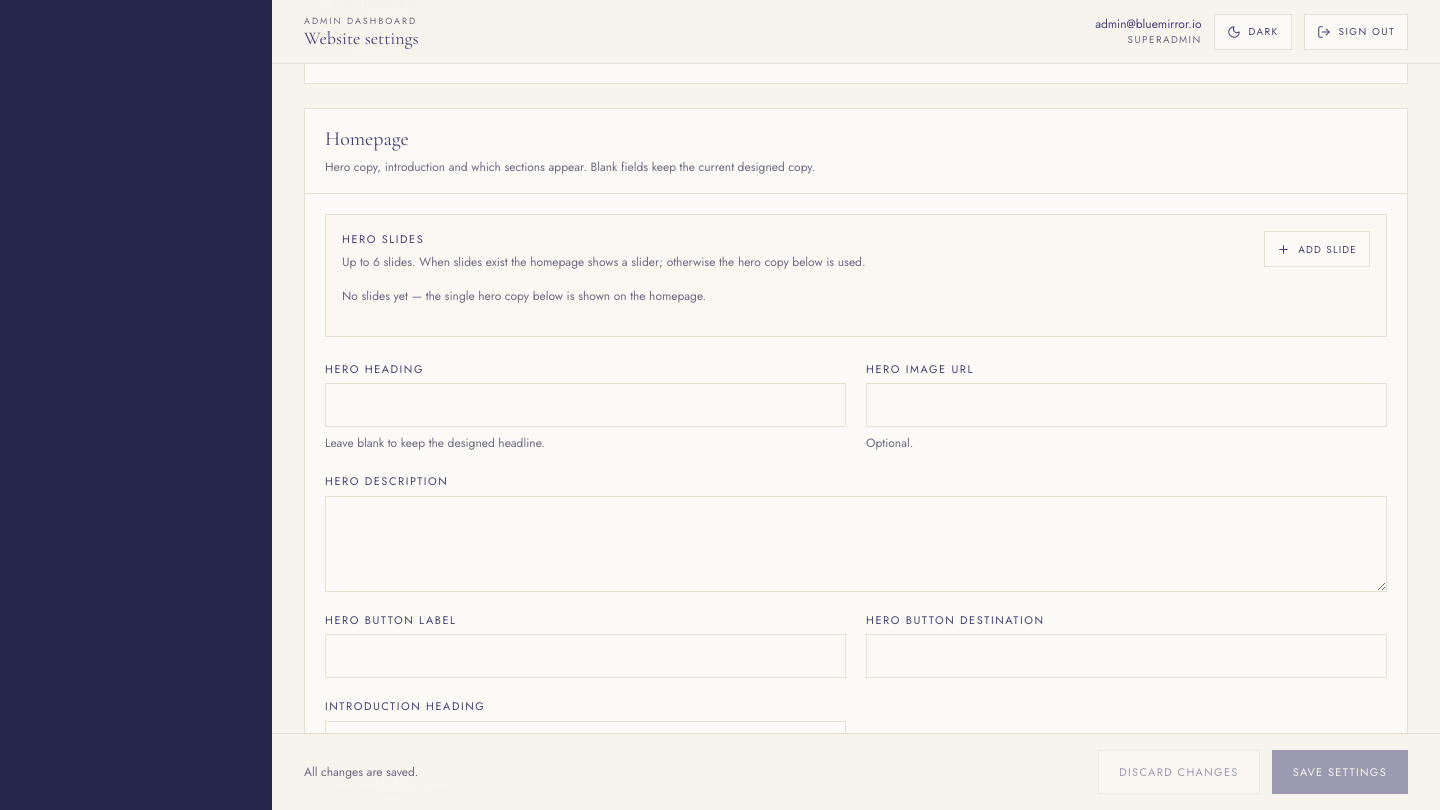
admin website settings › saves homepage copy and section visibility
(page scrolled)
Type "Care that starts with a conversation." into the field labelled "Hero heading" at (586, 405), box 325,383 -> 846,427
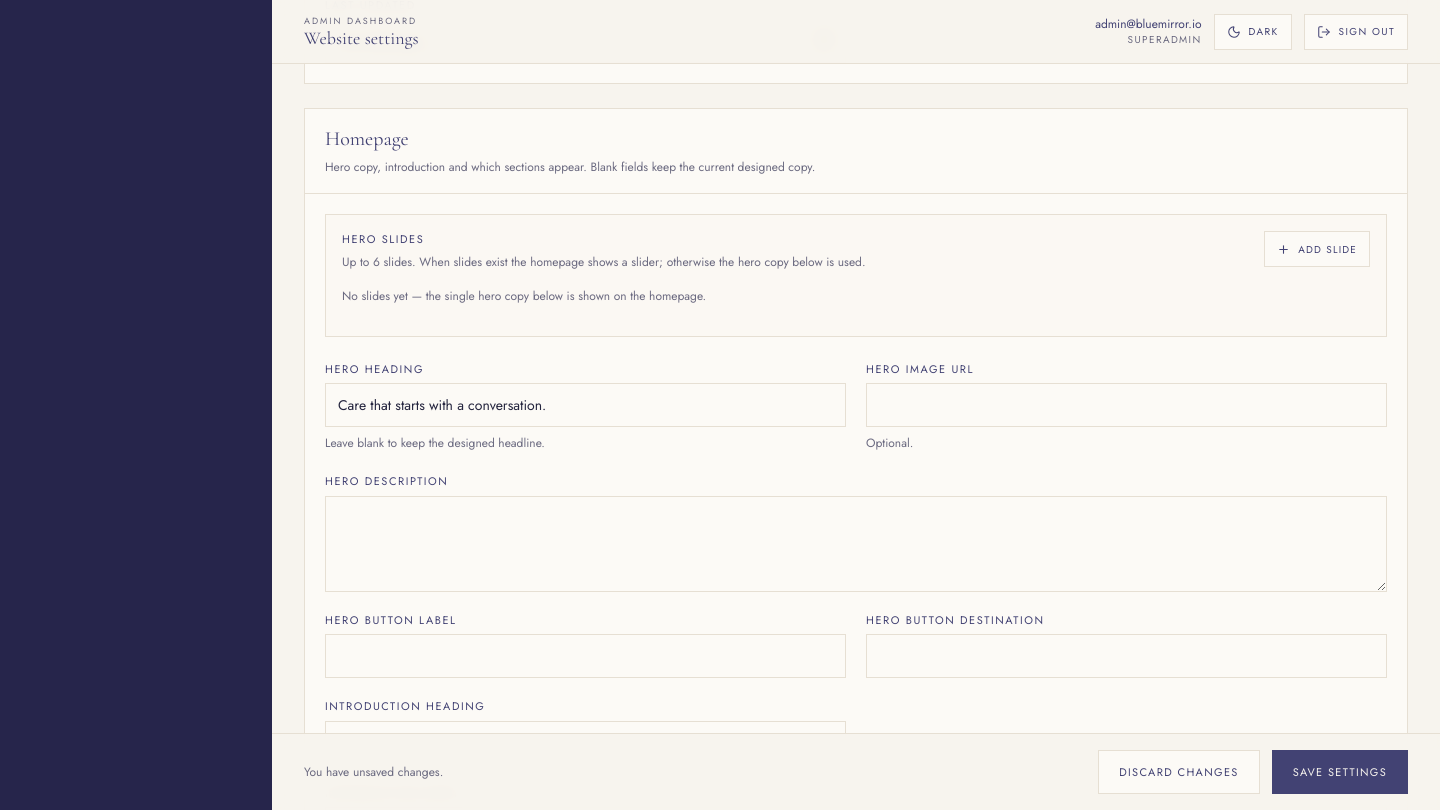
Type "A calm clinic experience." into the text box labelled "Hero description" at (856, 544), box 325,496 -> 1387,592
(page scrolled)
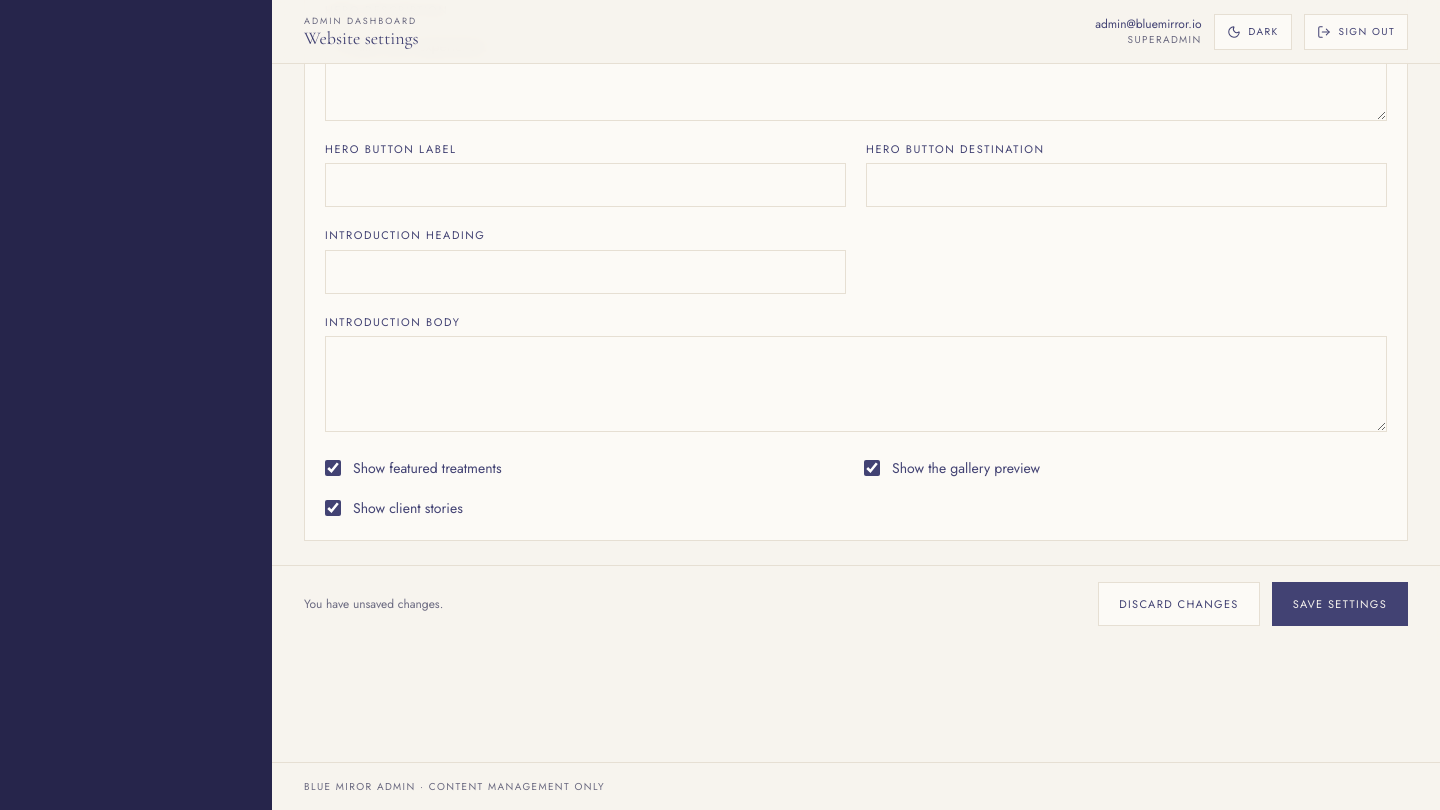
Click the checkbox labelled "Show the gallery preview" at (872, 468), box 864,460 -> 880,476
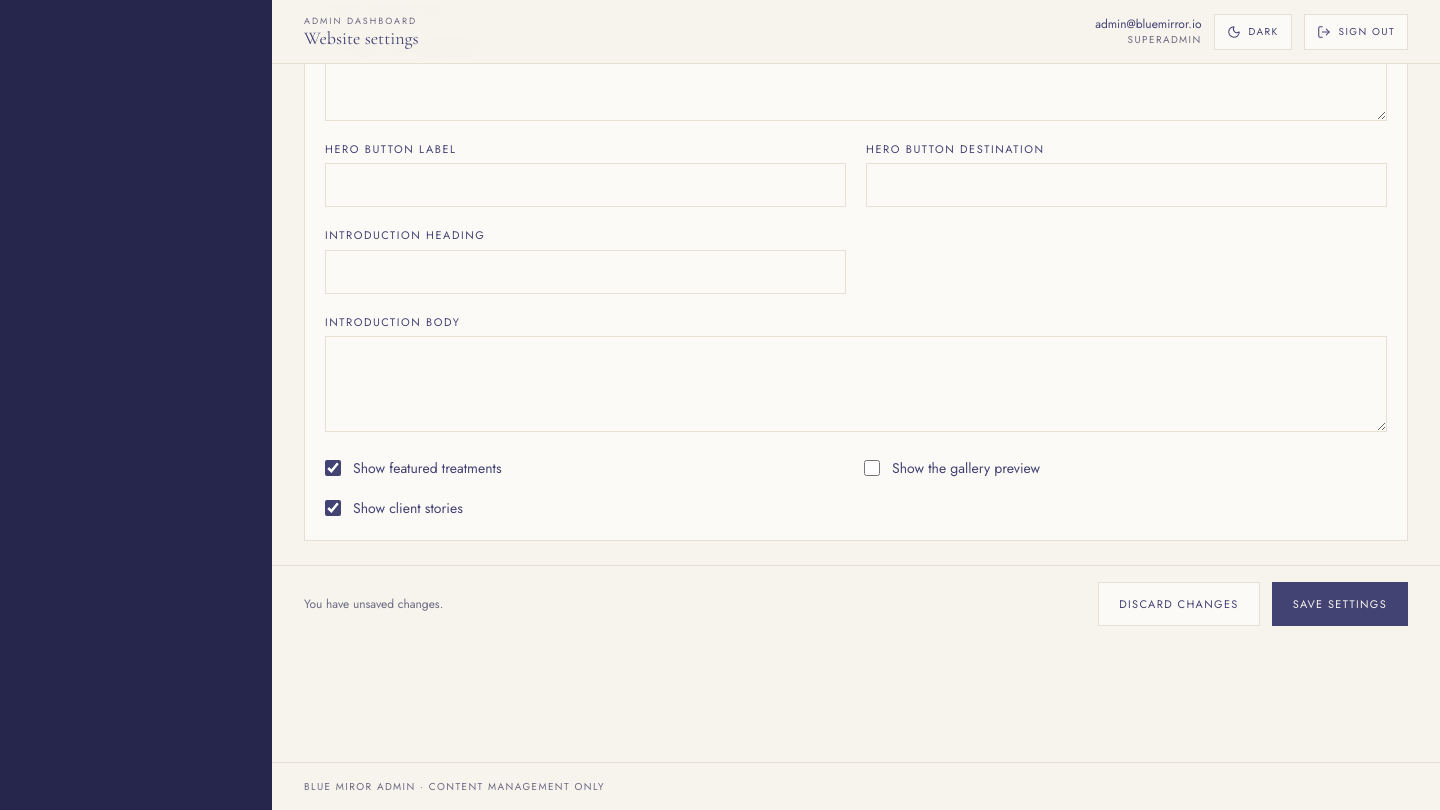
Click the button "Save settings" at (1340, 604), box 1272,582 -> 1408,626
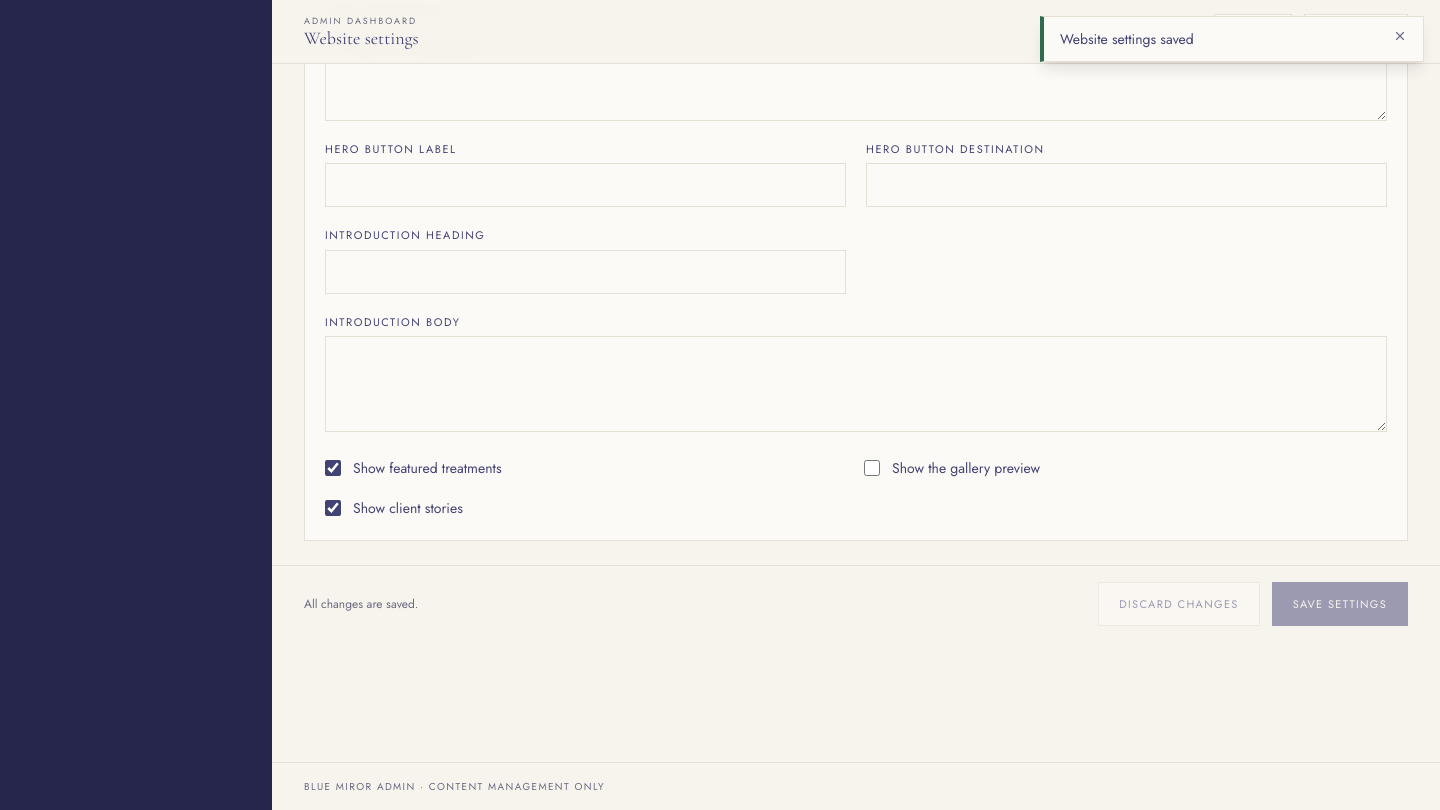
Now the text "Website settings saved" is shown, box 1060,29 -> 1194,49
